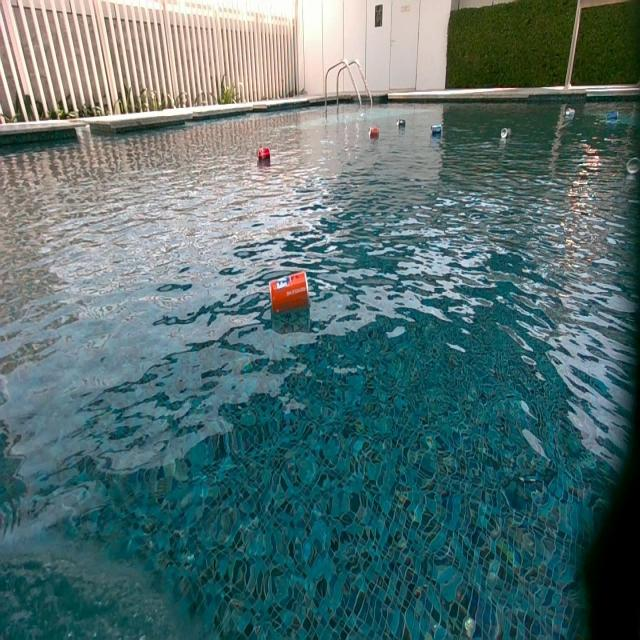Cans: (270, 272, 308, 317), (627, 159, 640, 177), (258, 148, 273, 162), (606, 110, 619, 122), (430, 126, 442, 138), (367, 128, 378, 140), (500, 128, 510, 140), (565, 107, 575, 118), (396, 118, 406, 128)
